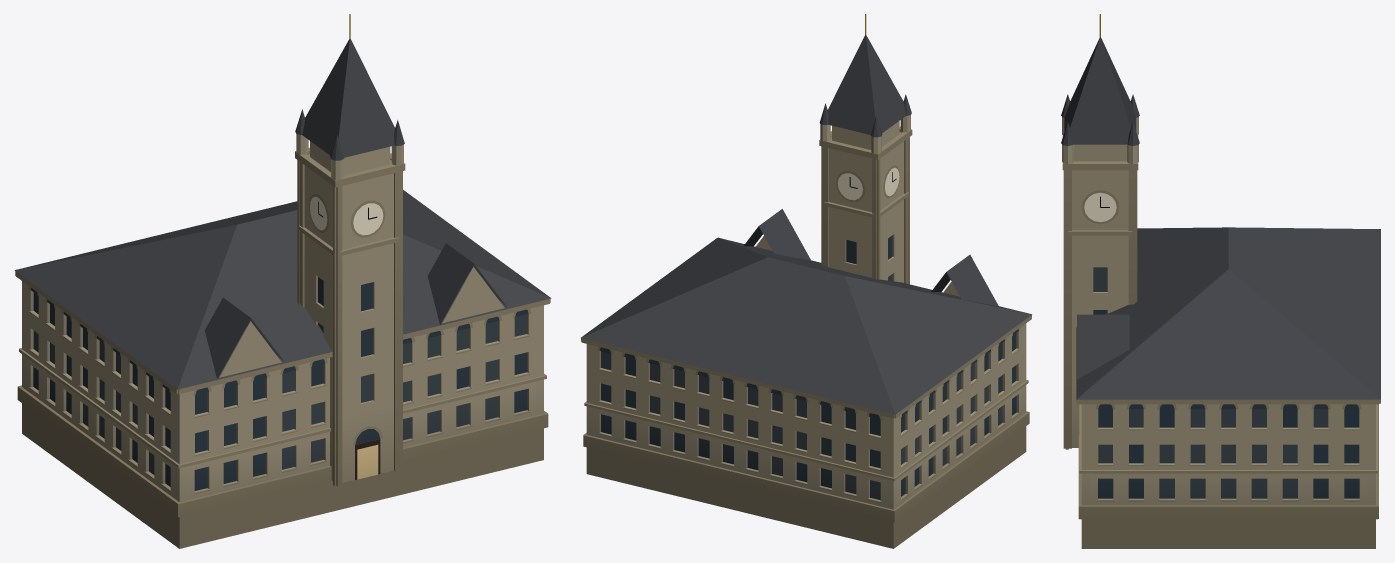
File: cityhall.glb
3 renders of one model, left to right at view 1: azimuth 30°, elevation 25°; view 2: azimuth 150°, elevation 25°; view 3: azimuth 270°, elevation 25°, orthographic. The views are drawn at different scales.
Parts seen in each view (by area): view 1: cityhall_lod0; view 2: cityhall_lod0; view 3: cityhall_lod0.
Boxes of the visible parts, x1,y1,x2,y2 form: cityhall_lod0: (14,14,551,548); cityhall_lod0: (581,14,1032,548); cityhall_lod0: (1061,14,1380,548).
Size of what is drawn, in the model's own units: 47 by 58 by 37.3.
